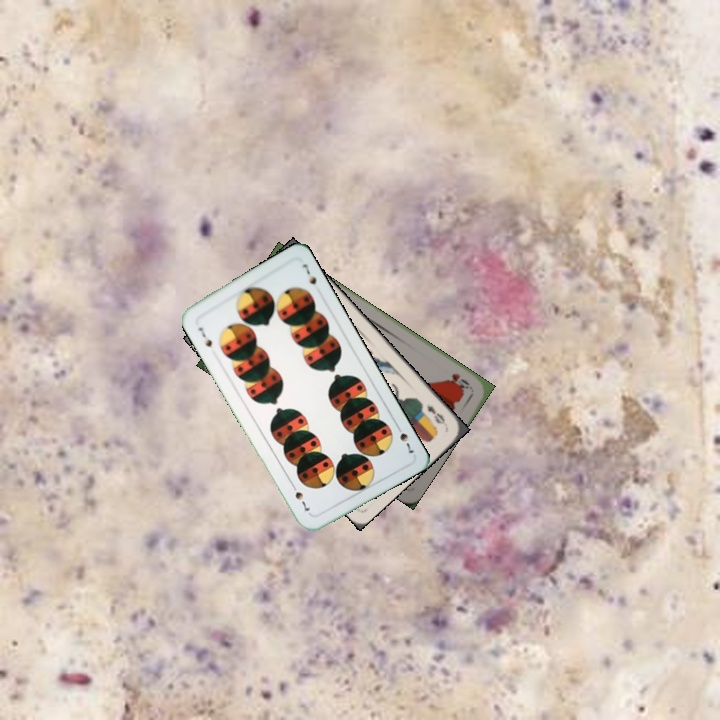EO: (416, 398, 449, 429)
HO: (443, 369, 474, 393)
S7: (392, 420, 416, 456), (194, 323, 215, 350)
